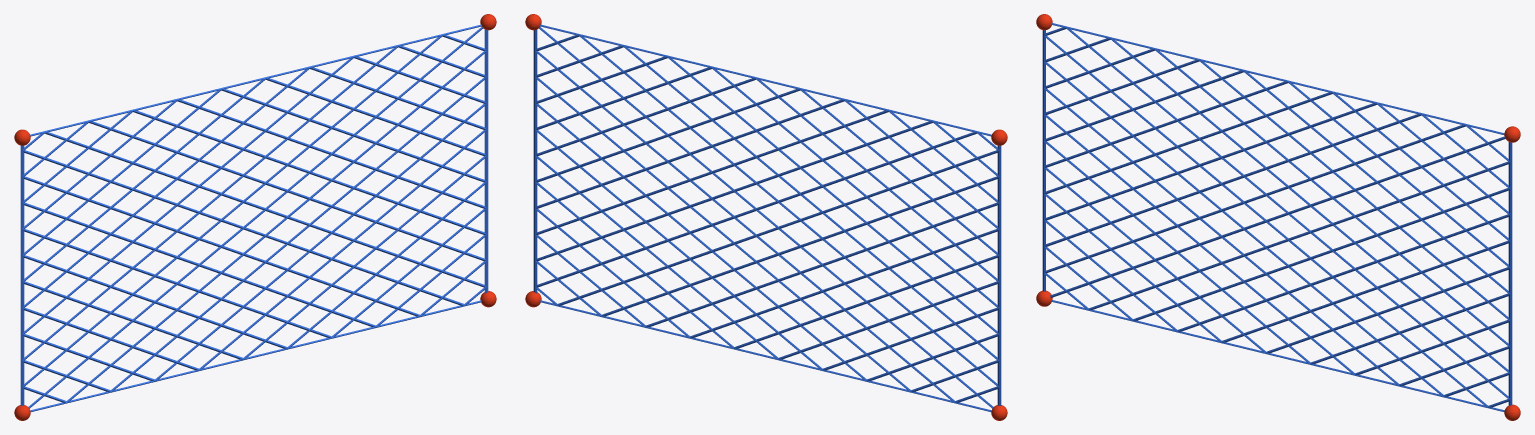
File: trackingNetTrap.fbx
3 views of the same model, side by side, from view 1: azimuth 30°, elevation 25°; view 2: azimuth 150°, elevation 25°; view 3: azimuth 330°, elevation 25° (orthographic).
Parts seen in each view (by area): view 1: Plane; view 2: Plane; view 3: Plane.
Boxes of the visible parts, bbox=[...] form: Plane: bbox=[20, 24, 488, 411]; Plane: bbox=[533, 24, 1001, 411]; Plane: bbox=[1042, 22, 1512, 411].
Size of the model in its own units: 1365 by 793 by 40.15.
